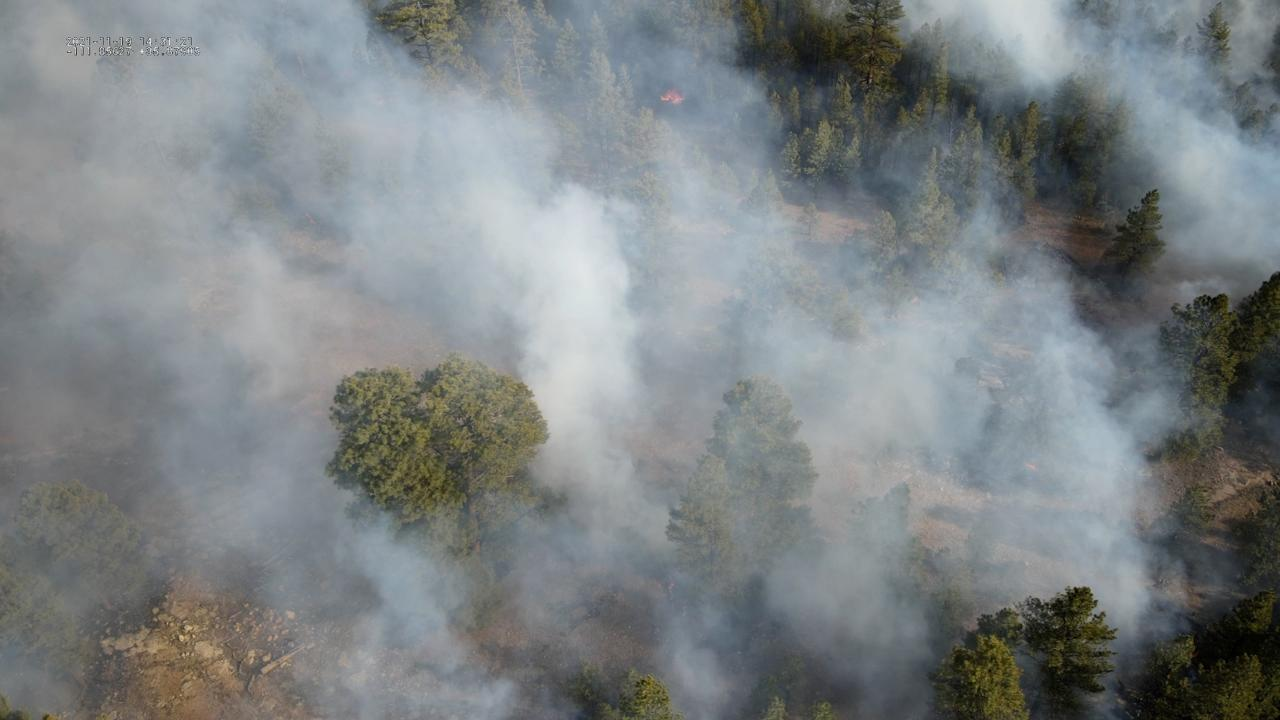fire: (655, 87, 688, 107)
smoke: (0, 0, 1280, 720)
